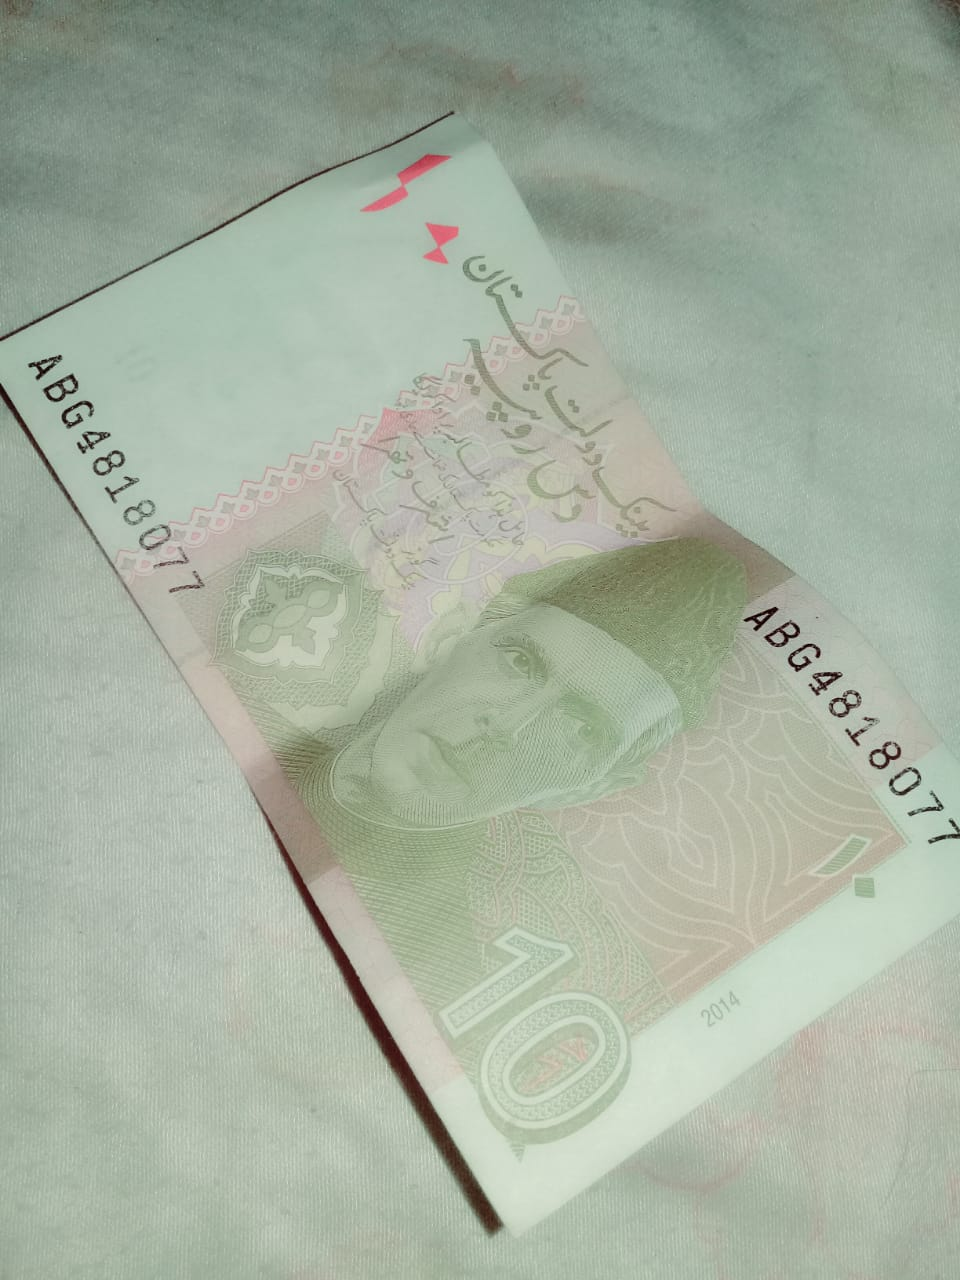10 rupee: (6, 101, 954, 1255)
